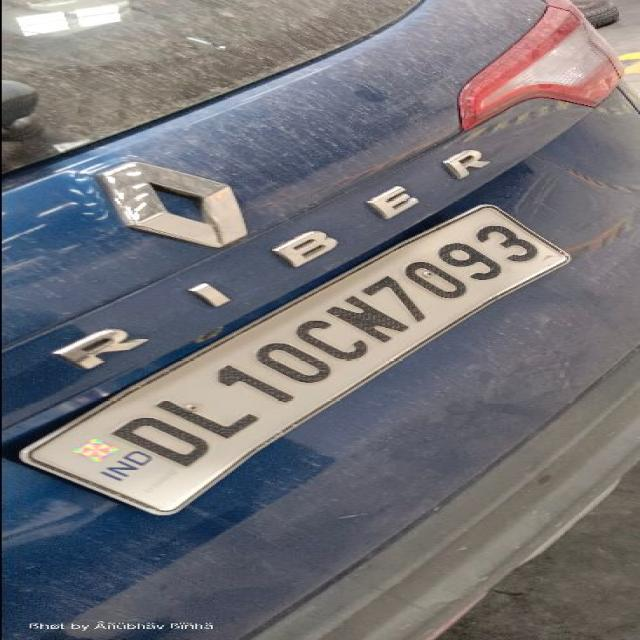license_plate: (16, 202, 572, 515)
